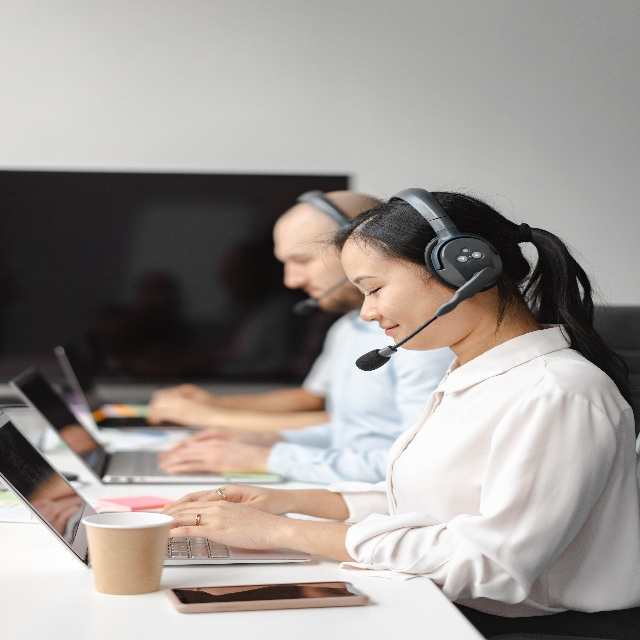Sin_guantes: (164, 502, 277, 551), (159, 437, 260, 474), (173, 486, 285, 516), (146, 396, 207, 429), (153, 382, 208, 404)
